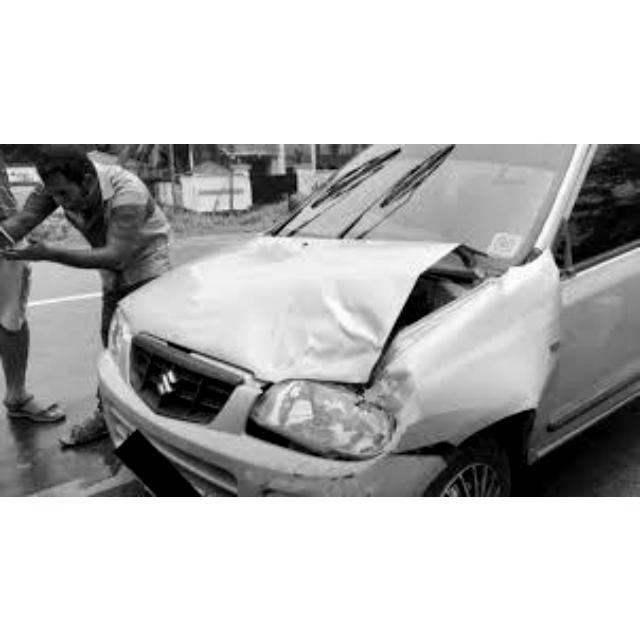Headlight-damage: (244, 377, 398, 463)
bonnet-dent: (125, 238, 447, 371)
fender-dent: (380, 310, 547, 454)
front-bumper-dent: (102, 444, 405, 494)
